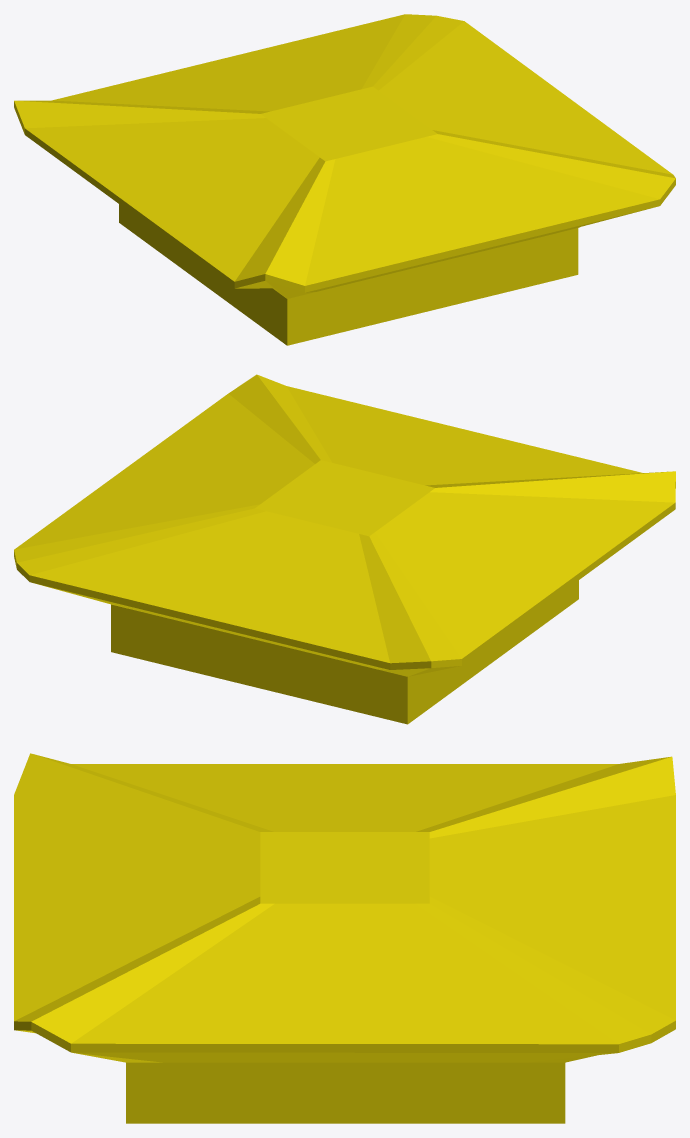
Rendered from Trampoline.glb.
3 renders of one model, top to bottom at view 1: azimuth 30°, elevation 25°; view 2: azimuth 150°, elevation 25°; view 3: azimuth 270°, elevation 25°, orthographic. The views are drawn at different scales.
Parts seen in each view (by area): view 1: Cube; view 2: Cube; view 3: Cube.
Part boxes in pixels (box(x1,y1,x2,y2)): Cube: box(14, 14, 675, 345); Cube: box(14, 374, 675, 724); Cube: box(14, 753, 675, 1123).
Size of the model in its own units: 3.02 by 0.8192 by 3.01.
